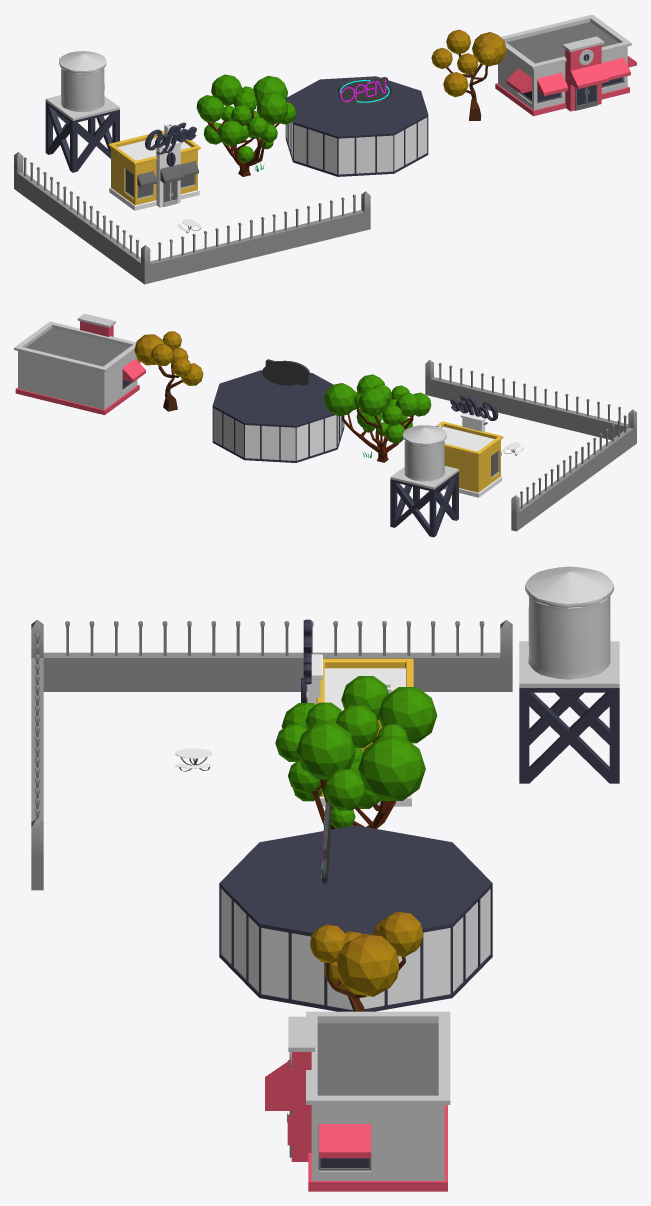
The model's file is gallaryArea.glb.
3 views of the same model, one above another, from view 1: azimuth 30°, elevation 25°; view 2: azimuth 150°, elevation 25°; view 3: azimuth 270°, elevation 25° (orthographic). The views are drawn at different scales.
Parts seen in each view (by area): view 1: Fence, tree crown (×2), Frame, Glass, Main building, Water tank, Legs, Marquees, Building, Roof 1, background, Entrance (+11 smaller); view 2: Fence, tree crown (×2), Frame, Main building, Glass, Water tank, Legs, Building, Roof 1, background, trunk and branches, Bottom section (+6 smaller); view 3: Frame, tree crown (×2), Fence, Main building, Glass, Water tank, Roof 1, Legs, Marquees, Roof (×2), Bottom section, Building (+2 smaller).
Part boxes in pixels (x1,y1,x2,y2): Fence: (14,152,370,284); tree crown (×2): (196,29,506,162); Frame: (285,76,428,176); Glass: (286,117,427,174); Main building: (498,14,631,110); Water tank: (45,51,119,120); Legs: (45,101,119,172); Marquees: (506,56,636,96); Building: (108,130,200,205); Roof 1: (506,22,618,63); background: (338,77,391,104); Entrance: (565,44,601,111); Fence: (425,359,636,531); tree crown (×2): (134,331,431,443); Frame: (212,370,344,462); Main building: (14,321,137,409); Glass: (213,408,343,460); Water tank: (390,425,458,489); Legs: (390,471,458,537); Building: (437,421,503,492); Roof 1: (26,328,129,366); background: (262,359,309,385); trunk and branches: (341,407,413,462); Bottom section: (15,384,139,415); Frame: (219,825,492,1011); tree crown (×2): (275,676,437,996); Fence: (31,620,512,890); Main building: (306,1011,450,1180); Glass: (221,889,490,1009); Water tank: (519,566,619,687); Roof 1: (317,1023,438,1095); Legs: (519,688,619,783); Marquees: (265,1060,371,1158); Roof (×2): (288,668,405,1051); Bottom section: (308,1105,447,1191); Building: (316,658,413,796).
Size of the model in its own units: 2.75 by 0.4772 by 1.33.
30 materials, 1 textured.
